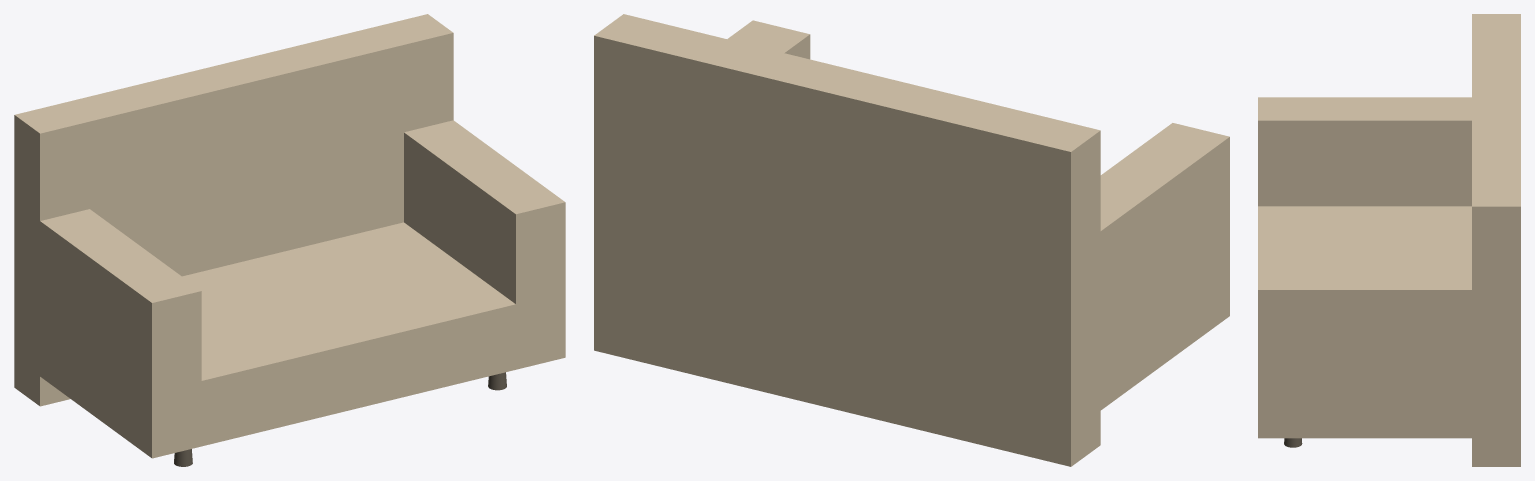
Rendered from sofa_loveseat_beige.glb.
The picture shows the model from 3 angles, left to right: view 1: azimuth 30°, elevation 25°; view 2: azimuth 150°, elevation 25°; view 3: azimuth 270°, elevation 25°; orthographic projection. The views are drawn at different scales.
Visible parts, largest first — view 1: furniture; view 2: furniture; view 3: furniture.
Part boxes in pixels (<box>): furniture: <box>14,14,565,466</box>; furniture: <box>594,14,1229,466</box>; furniture: <box>1258,14,1520,466</box>.
Bounding box in the file's own units: 1.3 × 0.82 × 0.75.
